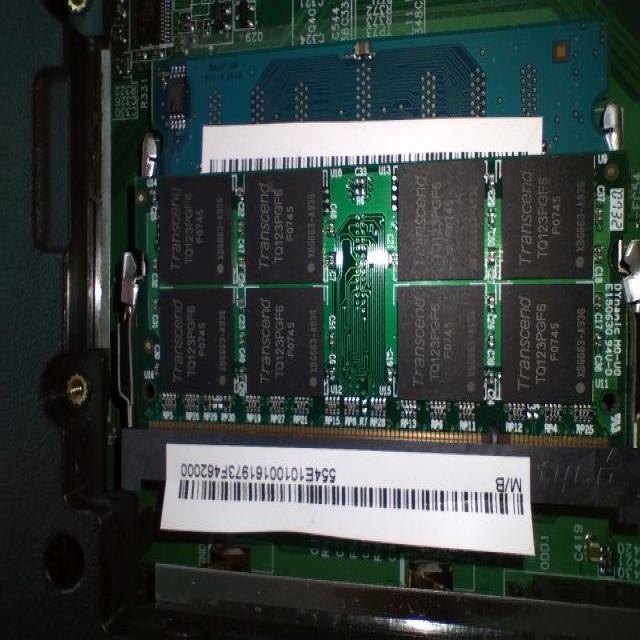capacitor: (340, 174, 377, 201)
